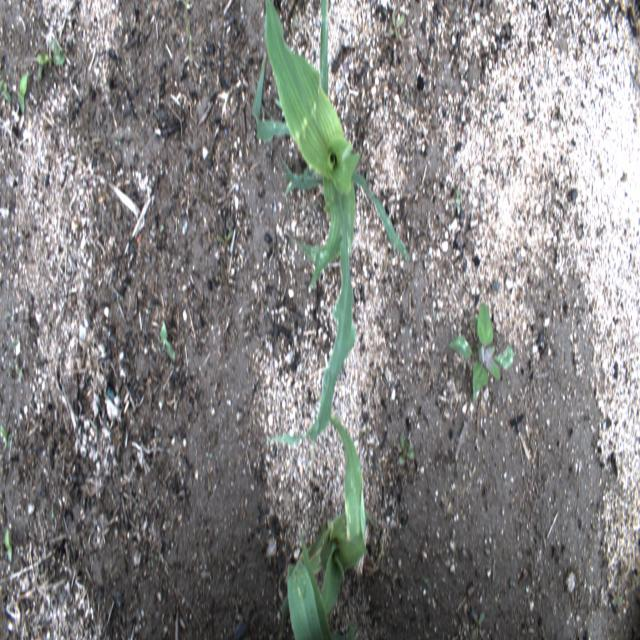crop: (252, 0, 409, 448), (278, 391, 376, 637), (287, 527, 359, 639)
weed: (448, 302, 516, 404), (398, 433, 414, 478), (158, 322, 174, 361), (387, 12, 406, 41), (183, 0, 192, 59), (36, 53, 51, 82), (50, 37, 66, 64), (17, 74, 27, 116), (470, 610, 484, 639), (217, 231, 234, 251), (4, 529, 13, 564), (0, 79, 11, 105), (1, 422, 8, 446), (455, 187, 461, 215)
